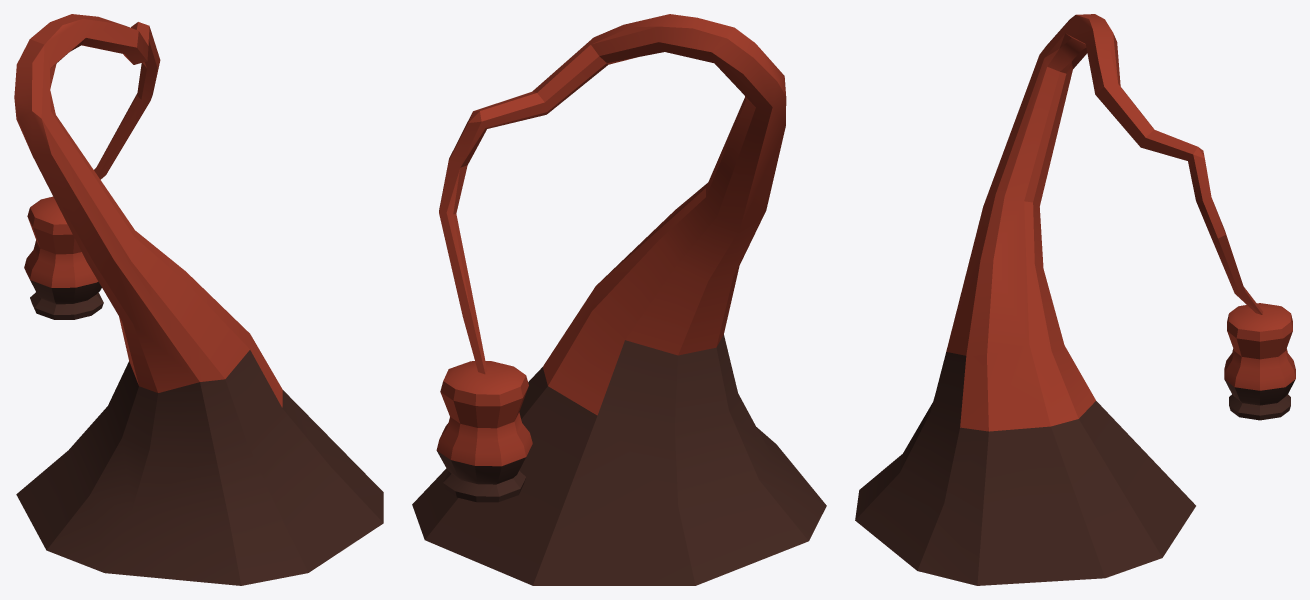
Rendered from plant_01b.glb.
The picture shows the model from 3 angles, left to right: view 1: azimuth 30°, elevation 25°; view 2: azimuth 150°, elevation 25°; view 3: azimuth 270°, elevation 25°; orthographic projection. The views are drawn at different scales.
Visible parts, largest first — view 1: EA_Plant_01b; view 2: EA_Plant_01b; view 3: EA_Plant_01b.
Part boxes in pixels (x1,y1,x2,y2): EA_Plant_01b: (14,14,383,585); EA_Plant_01b: (412,14,826,585); EA_Plant_01b: (855,14,1295,585).
Bounding box in the file's own units: 1.54 × 2.23 × 1.98.
